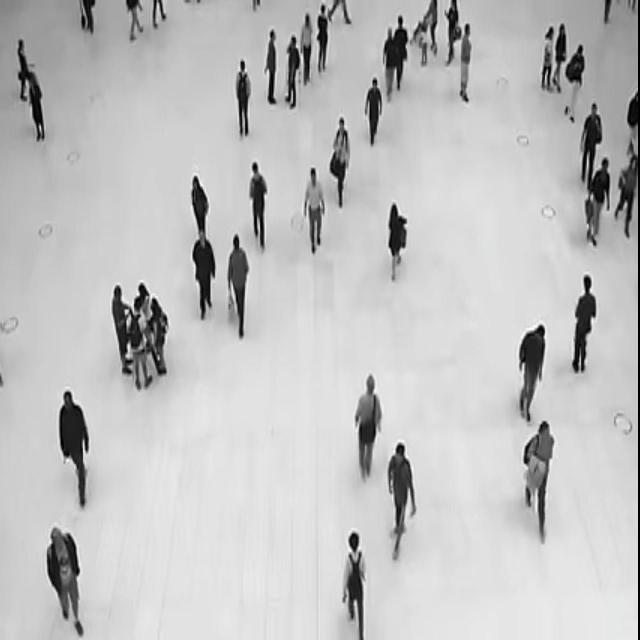humans: (43, 518, 87, 640), (520, 413, 556, 546), (57, 385, 95, 509), (387, 436, 418, 565), (339, 521, 368, 640), (224, 232, 253, 342), (352, 372, 382, 478), (518, 315, 548, 419), (572, 273, 600, 370), (191, 220, 216, 326), (613, 145, 640, 240), (328, 112, 354, 210), (144, 296, 174, 379), (246, 154, 269, 257), (586, 152, 610, 248), (454, 18, 478, 111), (110, 273, 130, 382), (302, 158, 324, 257), (129, 292, 151, 390), (24, 69, 53, 143), (579, 101, 603, 183), (364, 75, 388, 150), (284, 27, 304, 113), (13, 34, 39, 100), (392, 10, 412, 93), (388, 198, 408, 280), (264, 24, 284, 105), (567, 42, 587, 123), (234, 56, 253, 141), (313, 1, 332, 80), (298, 7, 316, 88), (381, 24, 398, 100), (553, 15, 570, 91), (189, 166, 209, 228), (444, 1, 461, 72), (539, 20, 556, 91), (76, 0, 100, 41), (135, 276, 155, 319), (428, 0, 442, 60)
